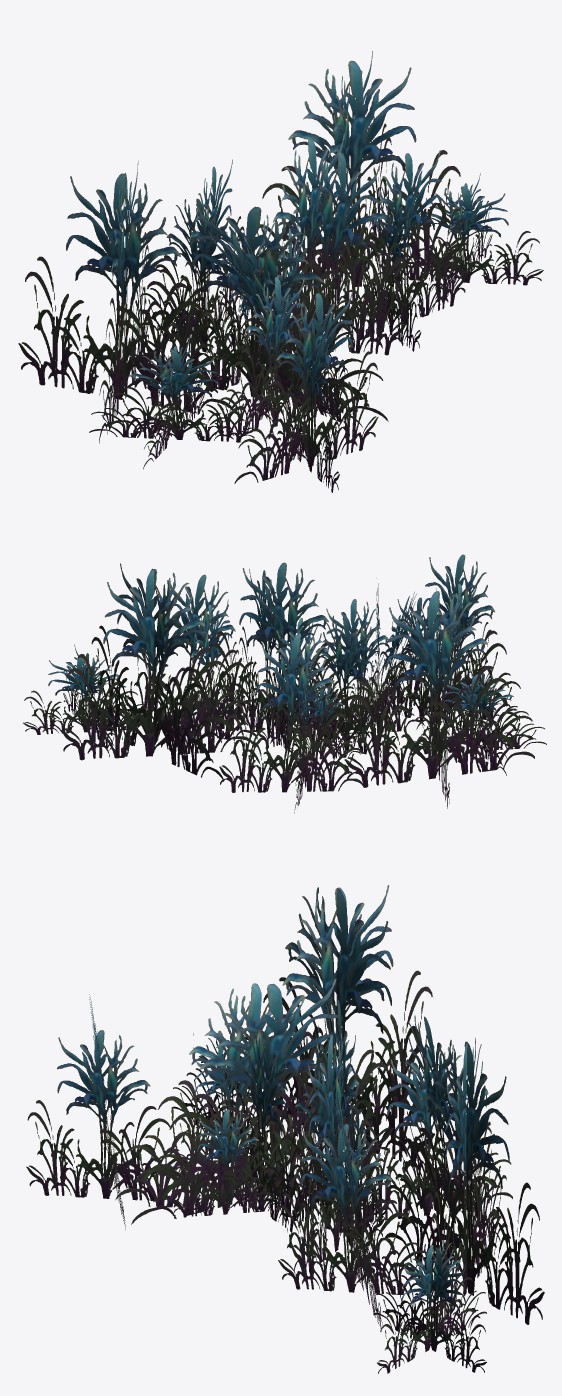
The model's file is wm_灌木野花01.fbx.
The picture shows the model from 3 angles, top to bottom: view 1: azimuth 30°, elevation 25°; view 2: azimuth 150°, elevation 25°; view 3: azimuth 270°, elevation 25°; orthographic projection. The views are drawn at different scales.
Parts seen in each view (by area): view 1: wm_灌木野花01; view 2: wm_灌木野花01; view 3: wm_灌木野花01.
Part boxes in pixels (box(x1,y1,x2,y2)): wm_灌木野花01: box(18, 51, 543, 492); wm_灌木野花01: box(23, 554, 546, 813); wm_灌木野花01: box(26, 885, 544, 1373).
Bounding box in the file's own units: 198 × 89.17 × 161.
